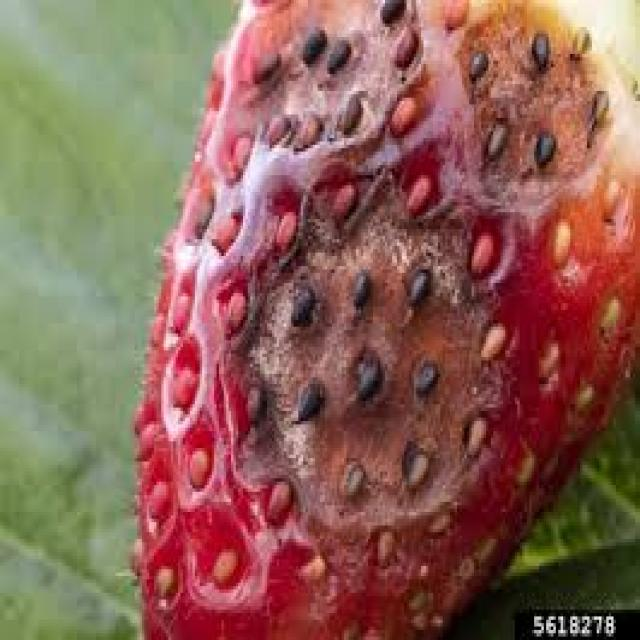Mancha negra Antracnosis: (132, 0, 634, 624)
